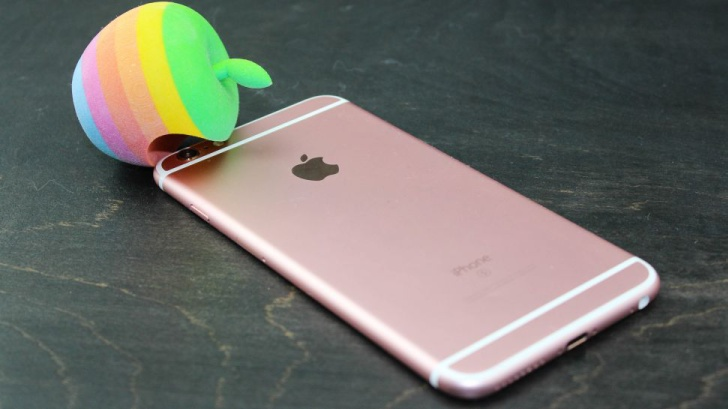apple: (281, 141, 347, 190)
